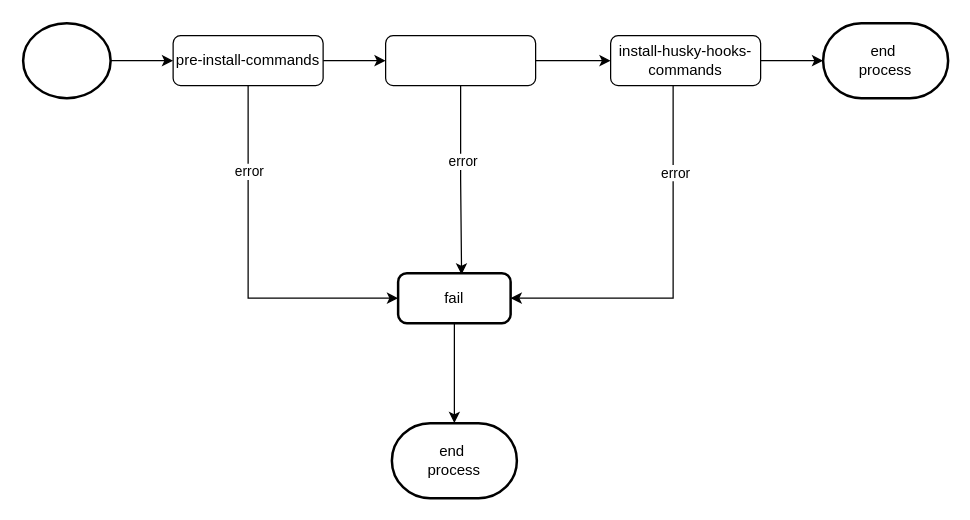
The diagram is 970 pixels wide and 520 high, and some of its shapes have lost their labels. Each missing label, with the centre of its shape:
"install-husky-command" belongs at [460,60].
"Start Process" belongs at [66,60].
